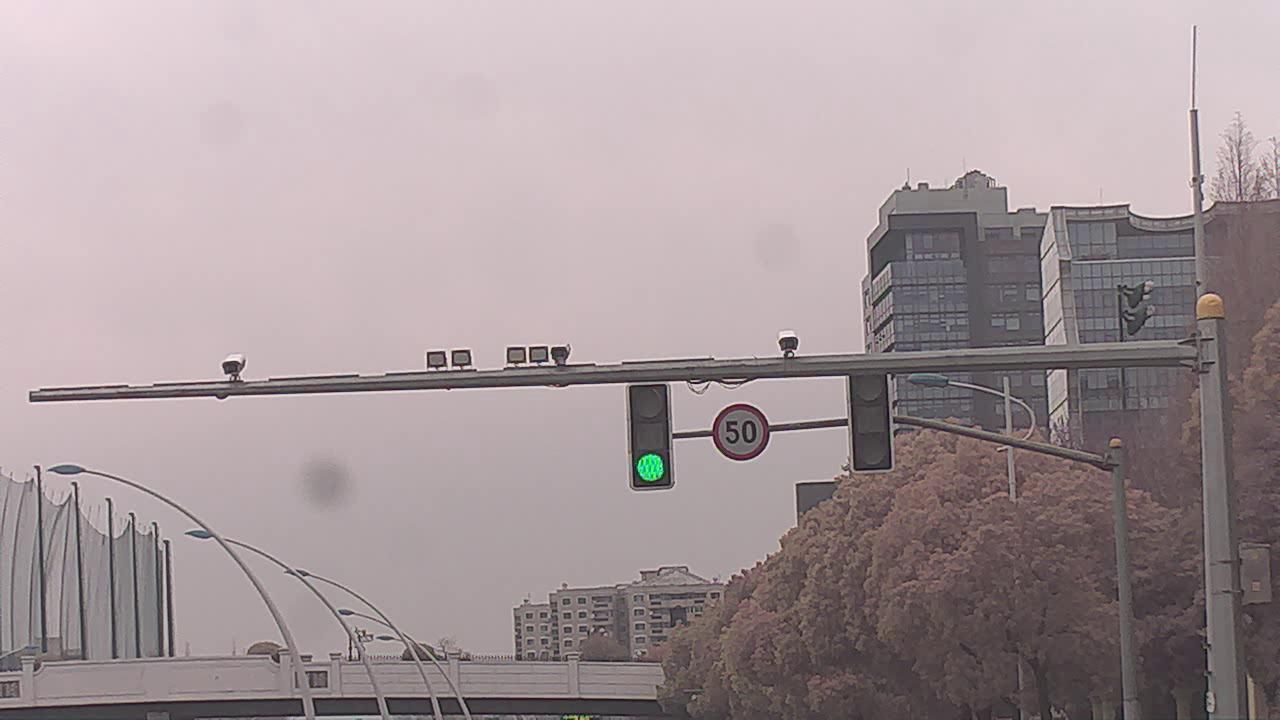traffic_light: (631, 381, 675, 488), (849, 373, 894, 470)
